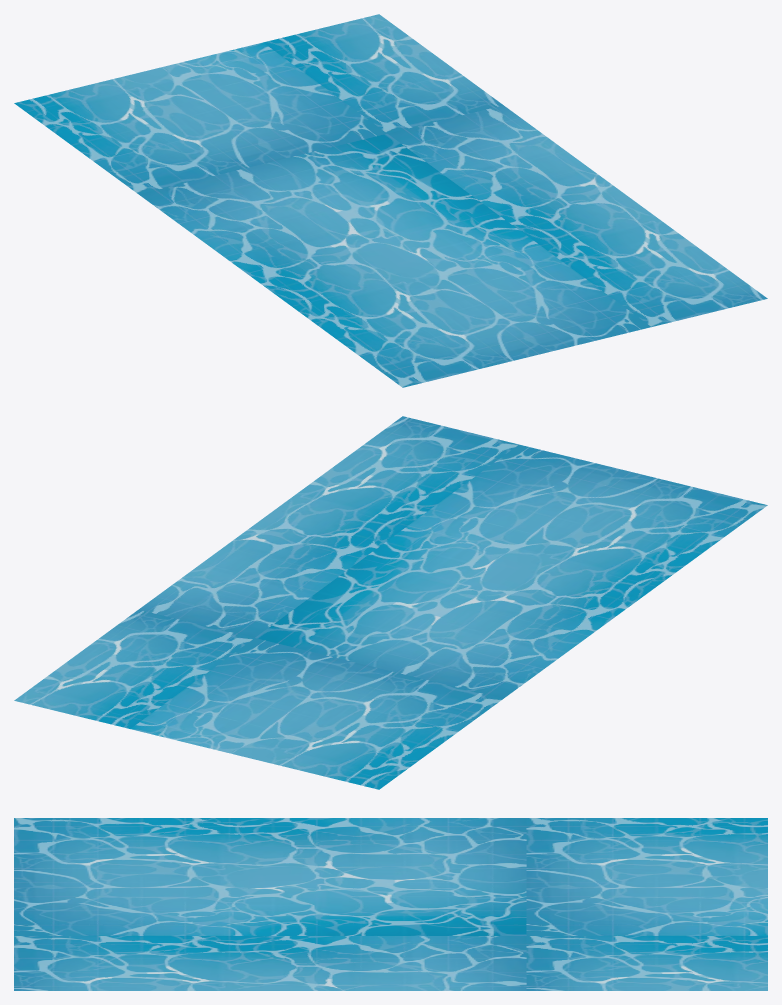
Rendered from Sea.obj.
3 renders of one model, top to bottom at view 1: azimuth 30°, elevation 25°; view 2: azimuth 150°, elevation 25°; view 3: azimuth 270°, elevation 25°, orthographic. The views are drawn at different scales.
Parts seen in each view (by area): view 1: Sea:pPlane1; view 2: Sea:pPlane1; view 3: Sea:pPlane1.
Part boxes in pixels (bbox=[...]): Sea:pPlane1: bbox=[14, 14, 767, 387]; Sea:pPlane1: bbox=[14, 416, 767, 789]; Sea:pPlane1: bbox=[14, 818, 767, 990].
Size of the model in its own units: 0.5156 by 0 by 0.9508.
Materials: 1 (1 with a texture image).
